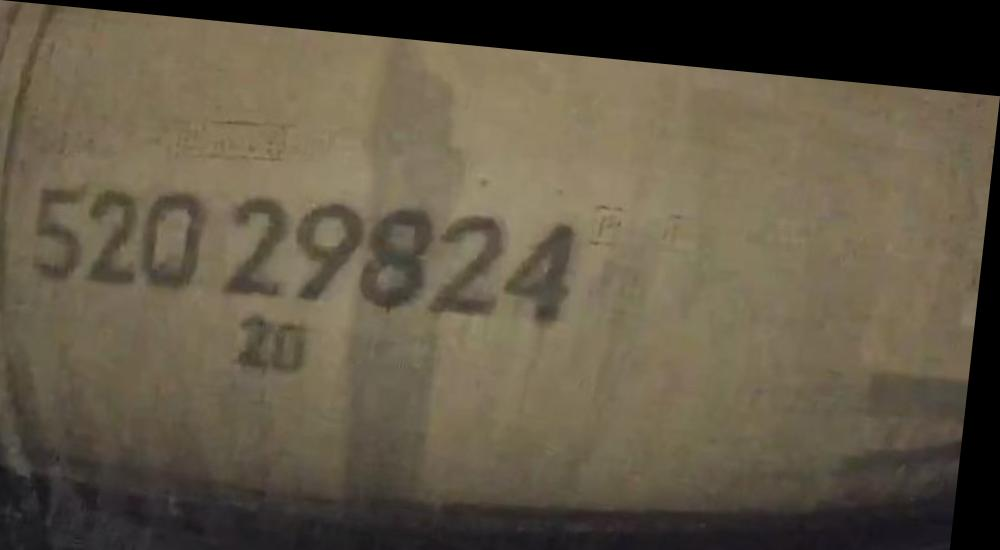Wagon-number: (30, 167, 587, 320)
